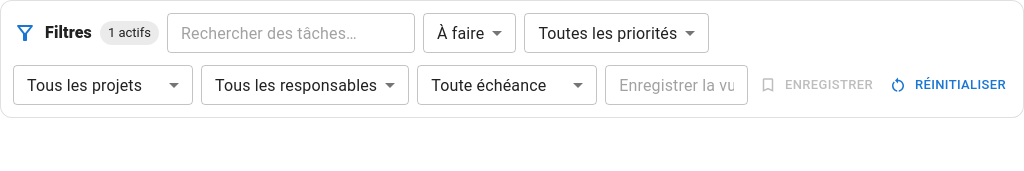
Test: TaskFilters › enregistre une vue
Type "Mes tâches" into the field with placeholder "Enregistrer la vue…" at x=677, y=85, box [605,65,748,105]
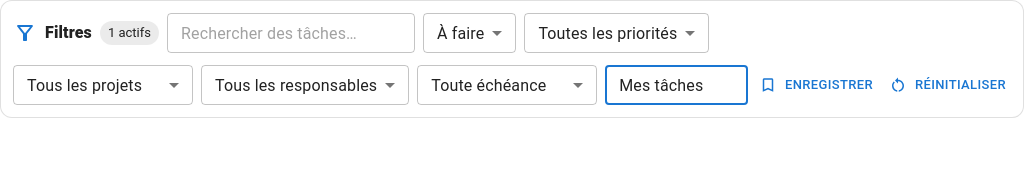
Click the button "Enregistrer" at x=817, y=85, box [756,65,878,105]
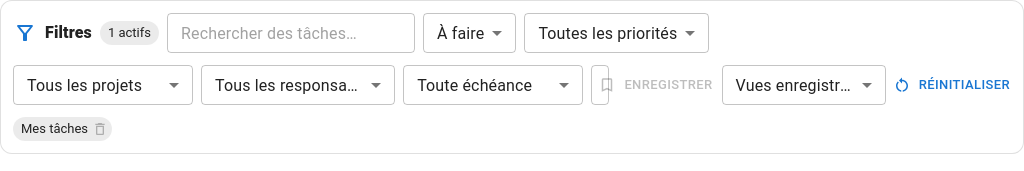
Check: the text "Mes tâches" is shown, box [21,121,88,136]
